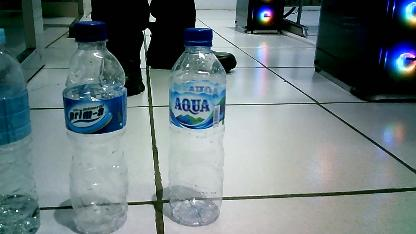Plastic Bottle: (43, 18, 138, 234), (159, 27, 243, 231)
